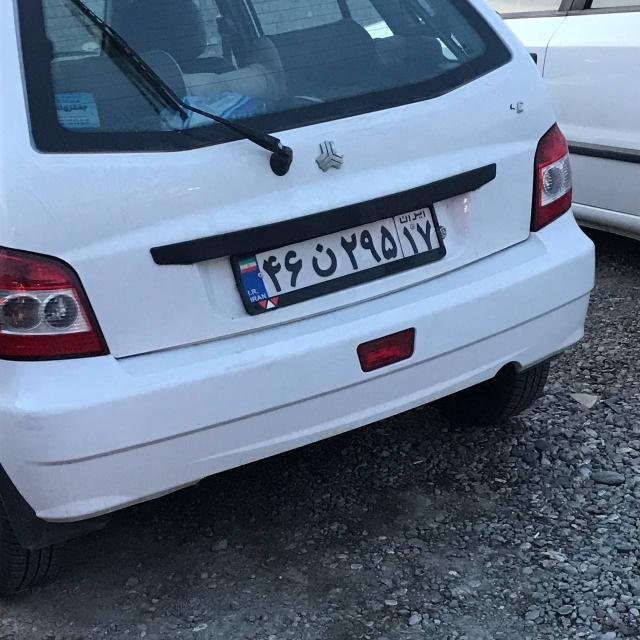Plates: (234, 202, 441, 304)
